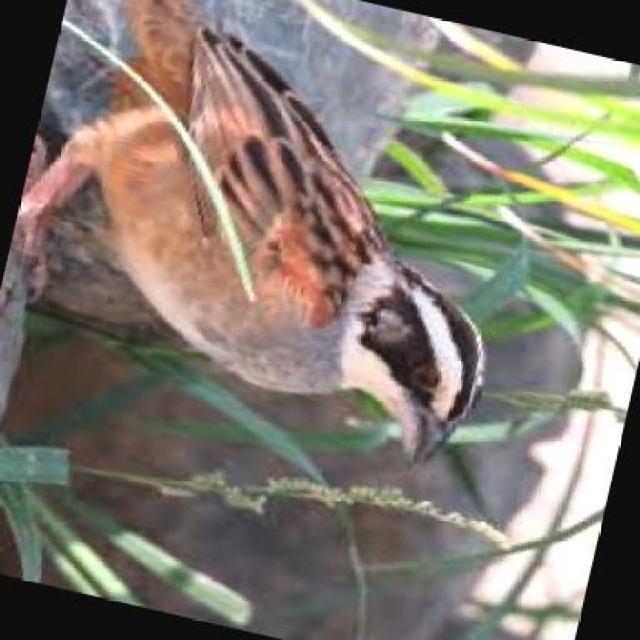Bird: (17, 0, 489, 477)
